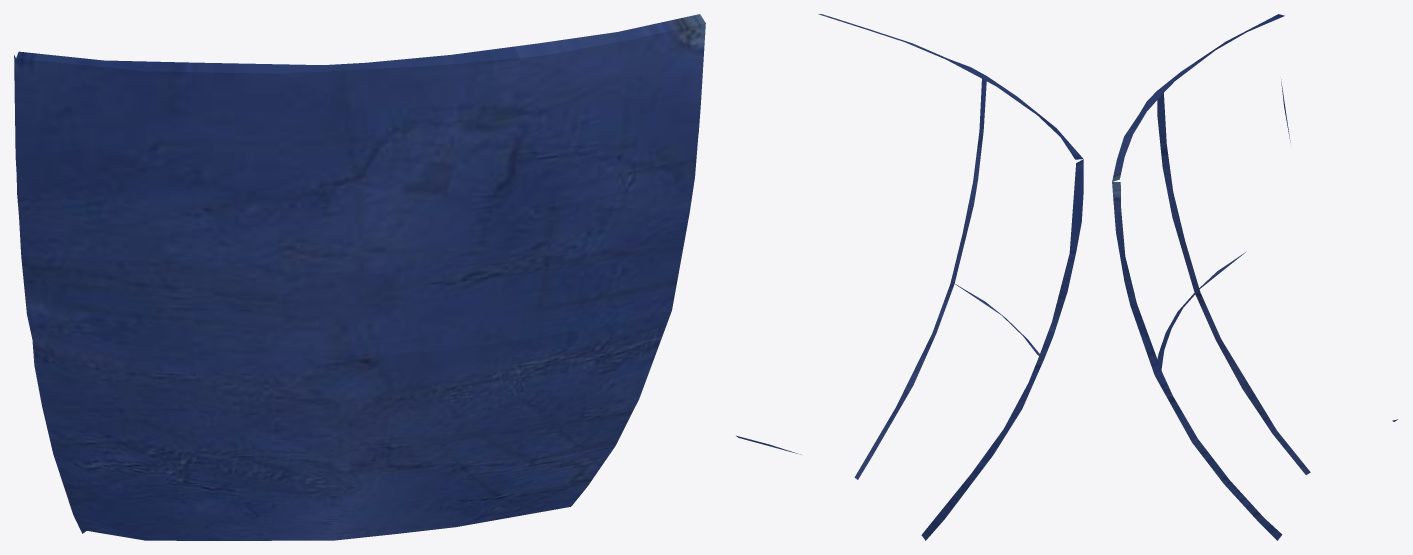
The picture shows the model from 3 angles, left to right: view 1: azimuth 30°, elevation 25°; view 2: azimuth 150°, elevation 25°; view 3: azimuth 270°, elevation 25°; orthographic projection. The views are drawn at different scales.
Bounding box in the file's own units: 4550554 × 4560567 × 3276905.
1 material, 1 textured.
